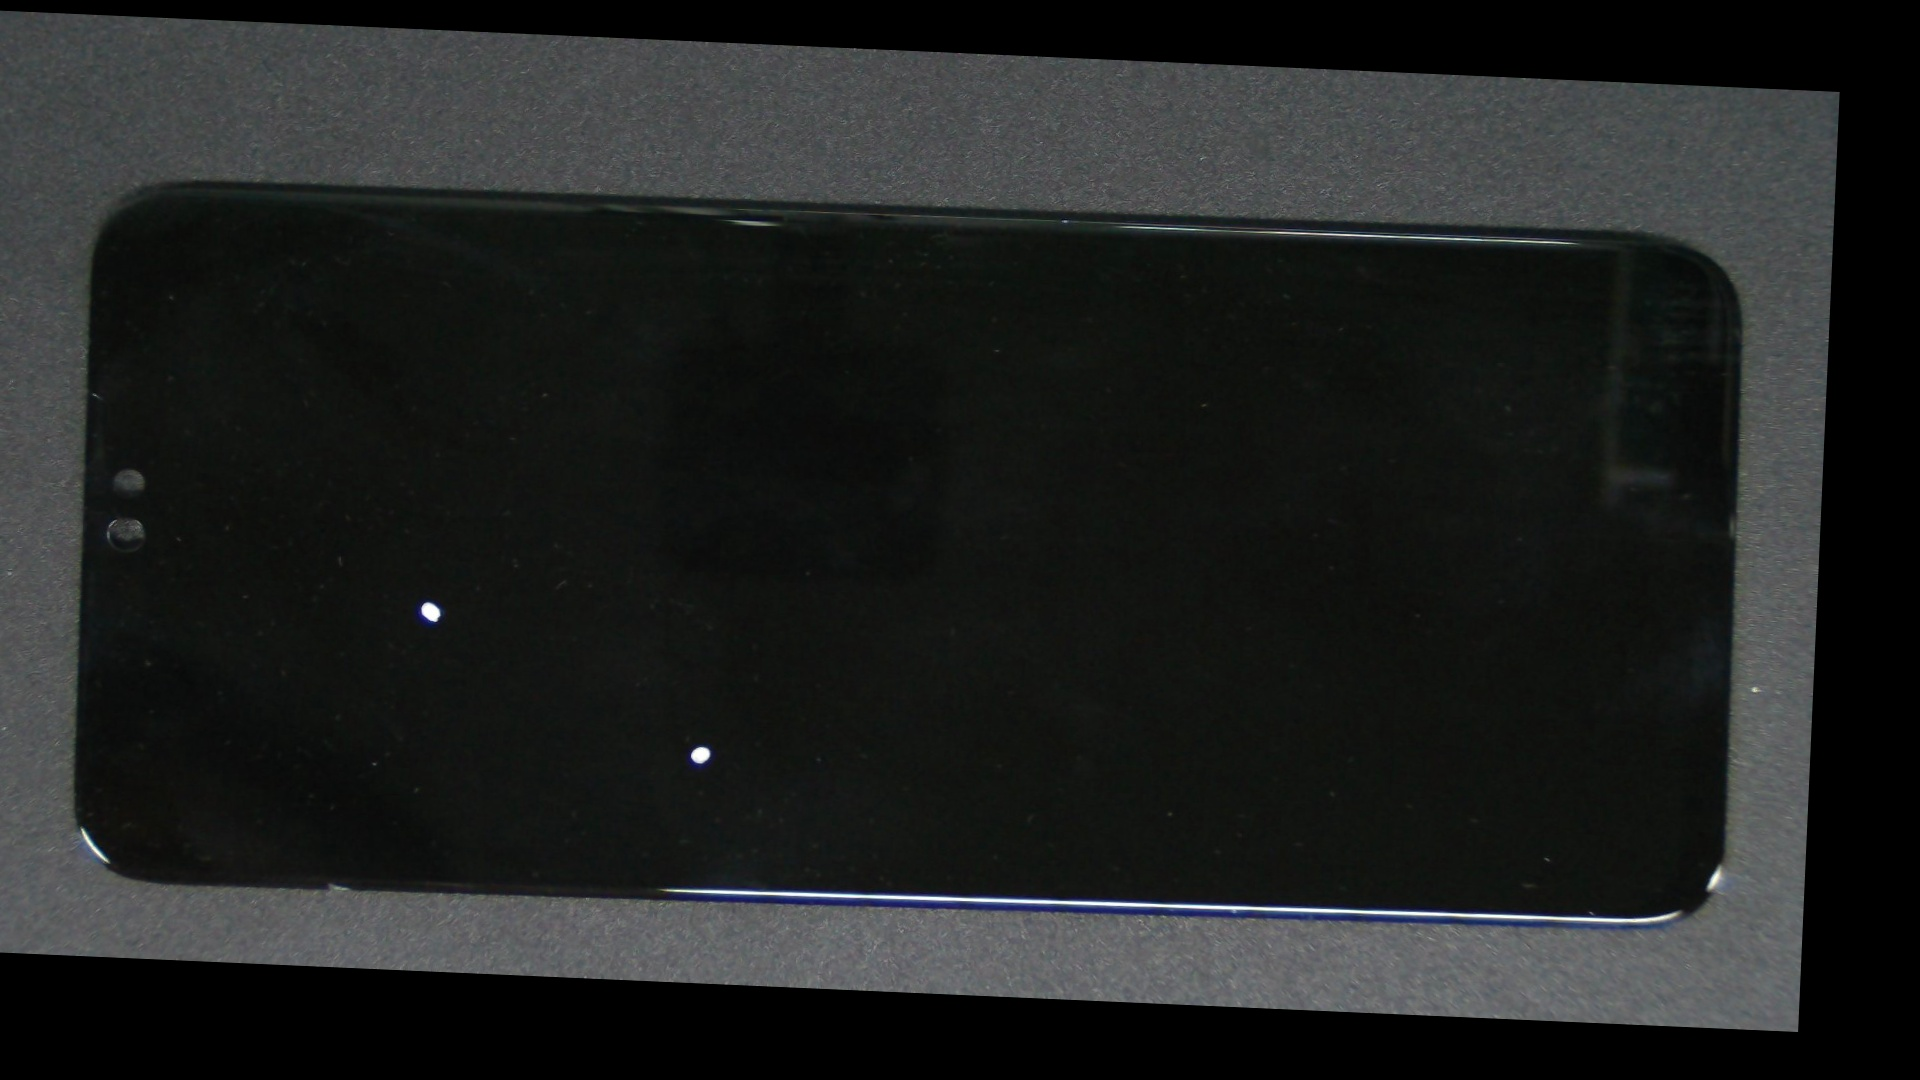oil: (316, 377, 1087, 1000), (182, 305, 669, 898)
